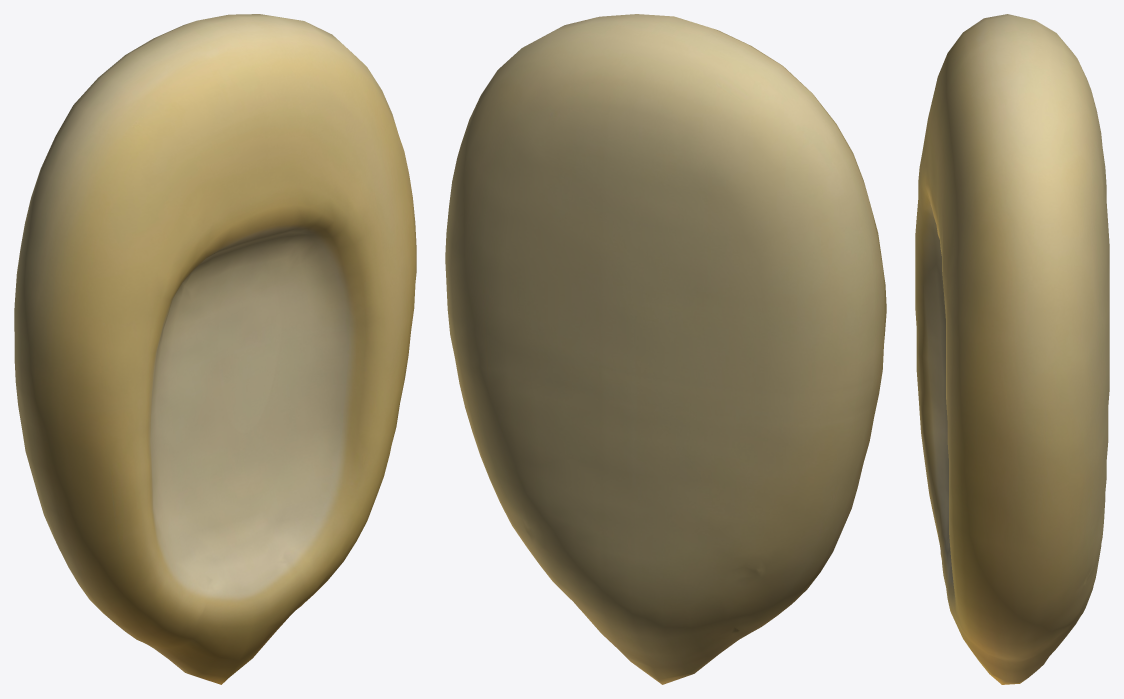
Rendered from milho_colorido.fbx.
3 renders of one model, left to right at view 1: azimuth 30°, elevation 25°; view 2: azimuth 150°, elevation 25°; view 3: azimuth 270°, elevation 25°, orthographic. The views are drawn at different scales.
Visible parts, largest first — view 1: milho; view 2: milho; view 3: milho.
Boxes of the visible parts, x1,y1,x2,y2 form: milho: [14, 14, 416, 684]; milho: [445, 14, 886, 684]; milho: [915, 14, 1109, 684].
Size of the model in its own units: 42.94 by 67.11 by 18.25.
